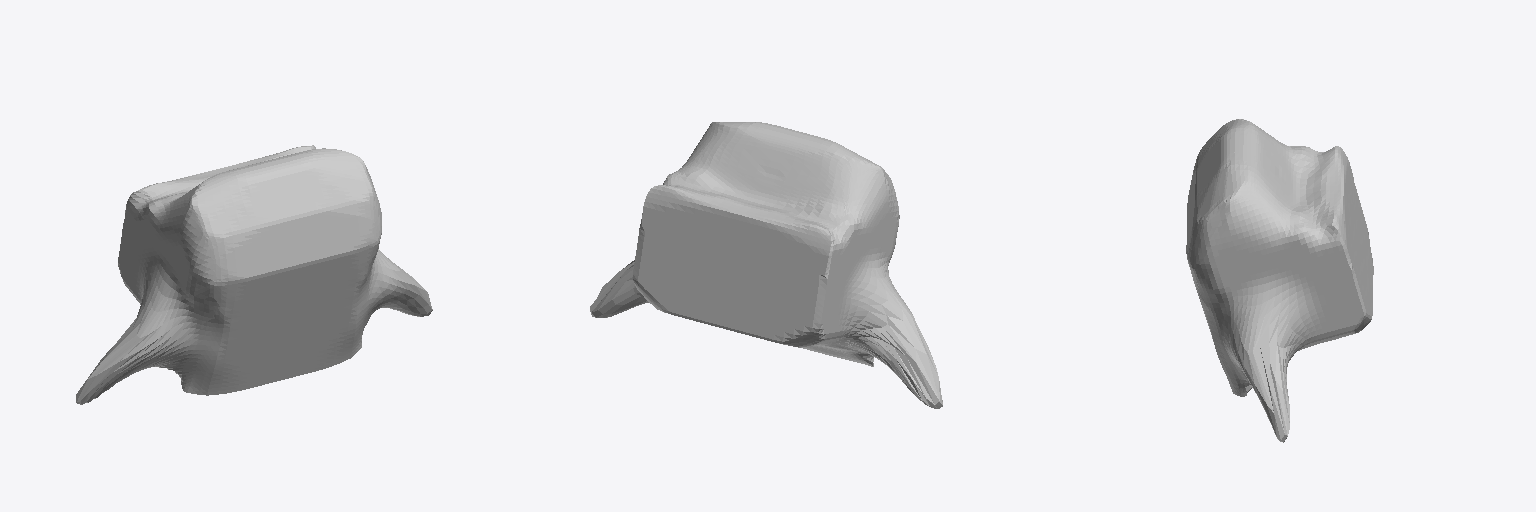
The model's file is vertabrae2.obj.
The picture shows the model from 3 angles: view 1: azimuth 30°, elevation 25°; view 2: azimuth 150°, elevation 25°; view 3: azimuth 270°, elevation 25°; orthographic projection.
Visible parts, largest first — view 1: Cube.050_Cube.007; view 2: Cube.050_Cube.007; view 3: Cube.050_Cube.007.
Part boxes in pixels (left/top/right/bottom): Cube.050_Cube.007: left=76, top=145, right=432, bottom=404; Cube.050_Cube.007: left=590, top=122, right=942, bottom=408; Cube.050_Cube.007: left=1186, top=119, right=1373, bottom=442.
Bounding box in the file's own units: 0.1614 × 0.0946 × 0.0738.